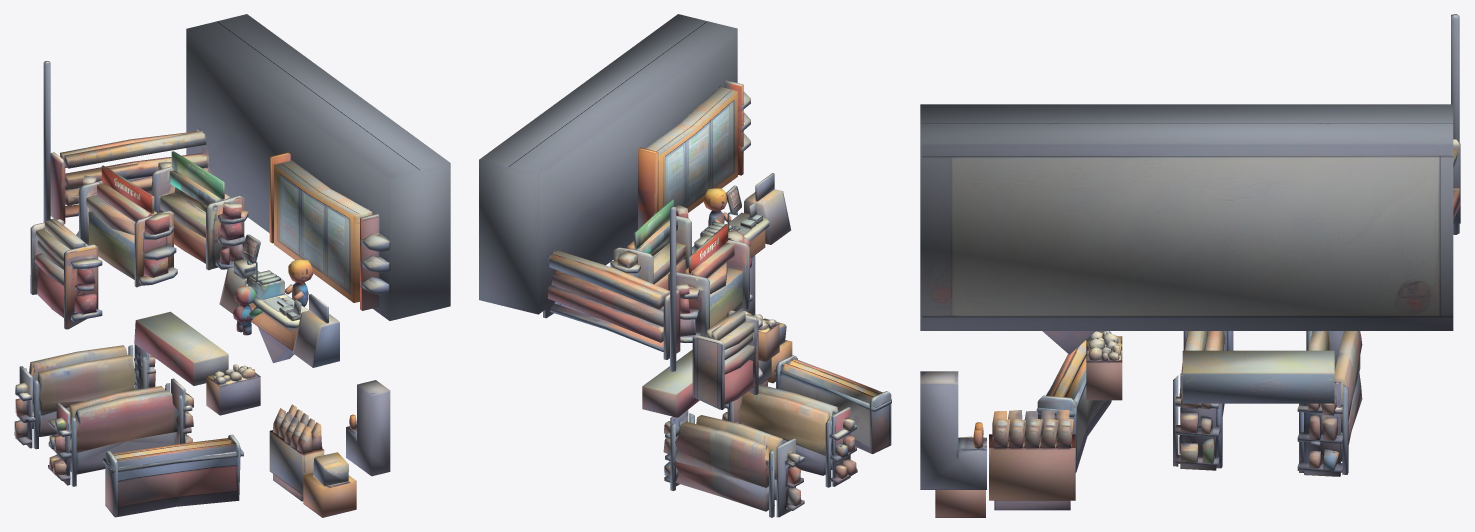
Rendered from selected.glb.
3 renders of one model, left to right at view 1: azimuth 30°, elevation 25°; view 2: azimuth 150°, elevation 25°; view 3: azimuth 270°, elevation 25°, orthographic. The views are drawn at different scales.
Visible parts, largest first — view 1: tripo_node_2ecea044-e27e-4162-b18d-87204245c4b6; view 2: tripo_node_2ecea044-e27e-4162-b18d-87204245c4b6; view 3: tripo_node_2ecea044-e27e-4162-b18d-87204245c4b6.
Boxes of the visible parts, box(x1,y1,x2,y2) form: tripo_node_2ecea044-e27e-4162-b18d-87204245c4b6: box(14, 14, 450, 517); tripo_node_2ecea044-e27e-4162-b18d-87204245c4b6: box(479, 14, 891, 517); tripo_node_2ecea044-e27e-4162-b18d-87204245c4b6: box(920, 14, 1460, 517).
Size of the model in its own units: 0.8066 by 0.8809 by 0.998.
1 material, 1 textured.
